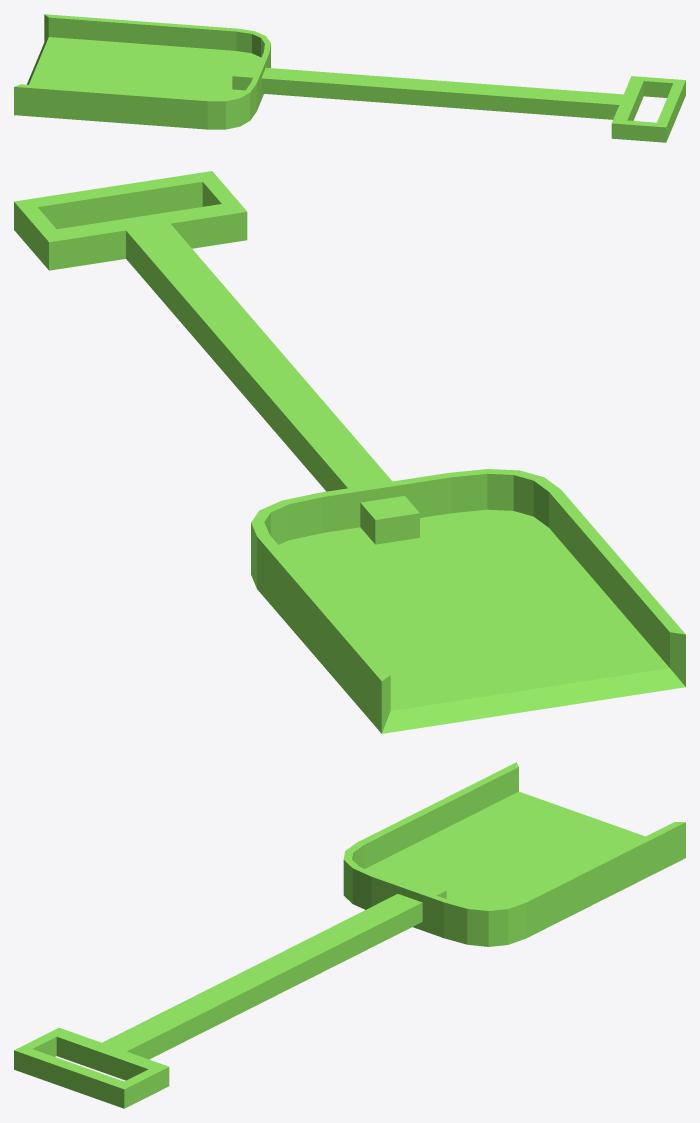
The model's file is Lopatka.fbx.
The picture shows the model from 3 angles, top to bottom: view 1: azimuth 30°, elevation 25°; view 2: azimuth 150°, elevation 25°; view 3: azimuth 270°, elevation 25°; orthographic projection. The views are drawn at different scales.
Parts seen in each view (by area): view 1: Lopatka; view 2: Lopatka; view 3: Lopatka.
Boxes of the visible parts, box(x1,y1,x2,y2) form: Lopatka: box(14, 14, 685, 142); Lopatka: box(14, 171, 685, 733); Lopatka: box(14, 762, 685, 1108).
Size of the model in its own units: 22.62 by 1.18 by 20.1.
